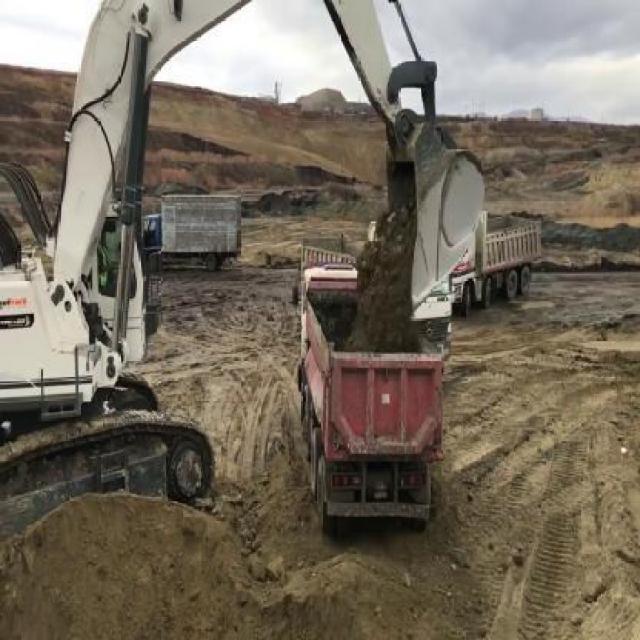Dump Truck: (296, 264, 442, 527), (447, 202, 541, 320), (142, 190, 242, 272)
Excavator: (0, 2, 495, 529)
